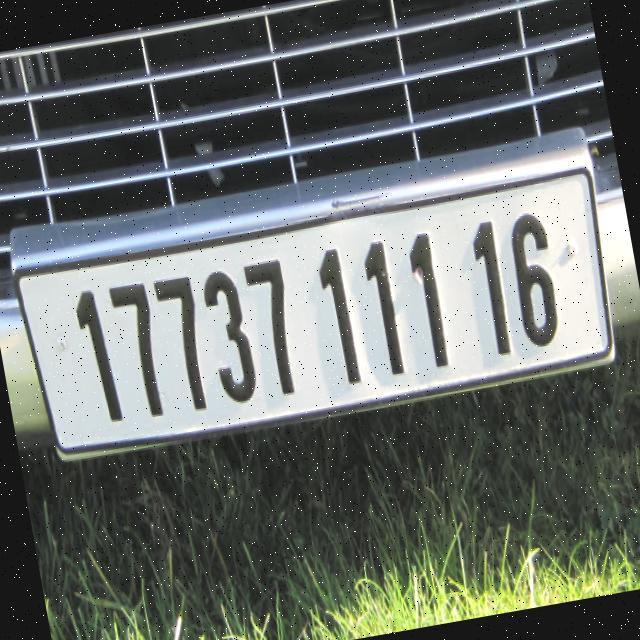Autre: (17, 169, 609, 445)
